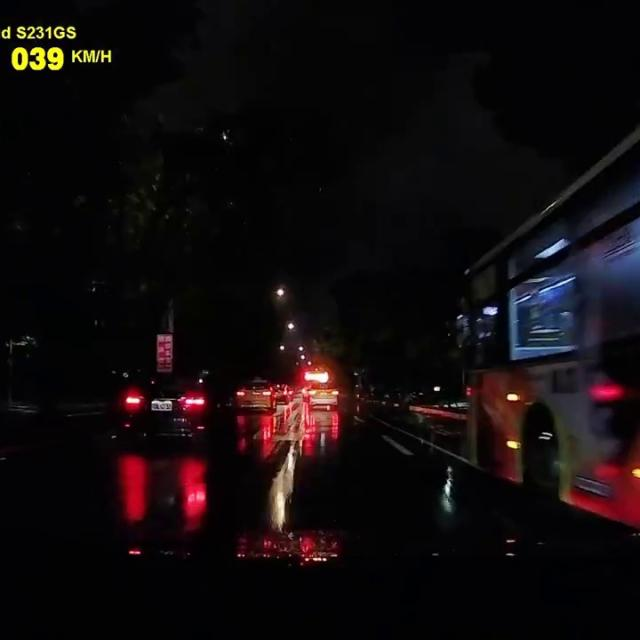Car: (116, 361, 230, 443), (234, 375, 276, 413), (303, 383, 335, 416), (271, 382, 293, 405)
